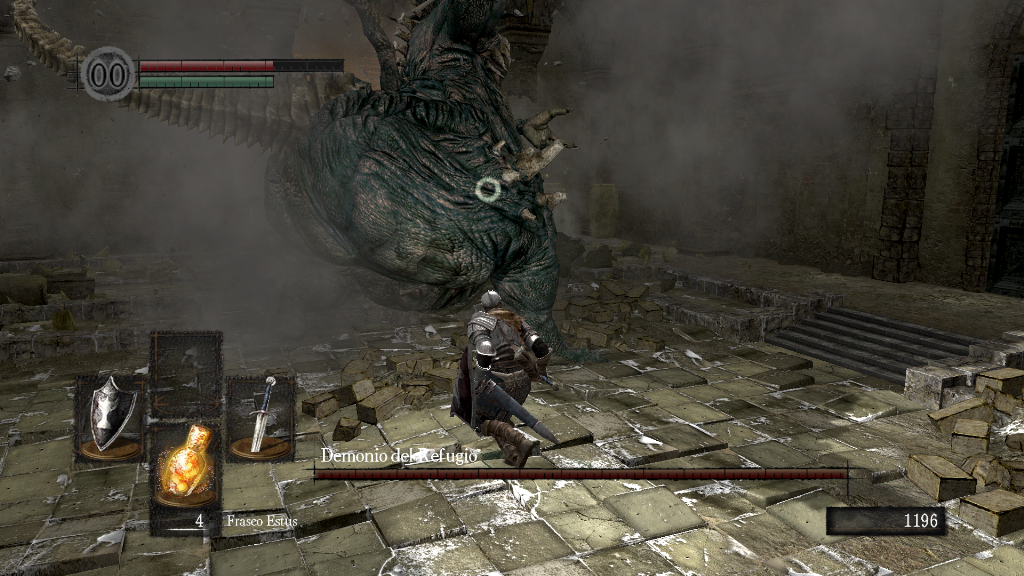asylumDemon: (261, 1, 599, 371)
bossHP: (314, 469, 847, 479)
health: (138, 58, 343, 71)
humanity: (80, 45, 136, 102)
player: (450, 288, 555, 469)
souls: (825, 506, 945, 536)
stamina: (138, 74, 274, 88)
